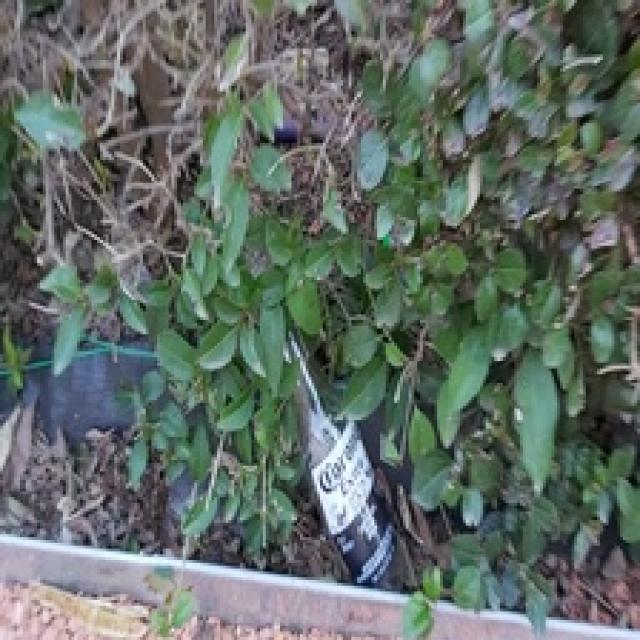Glass: (284, 333, 398, 587)
